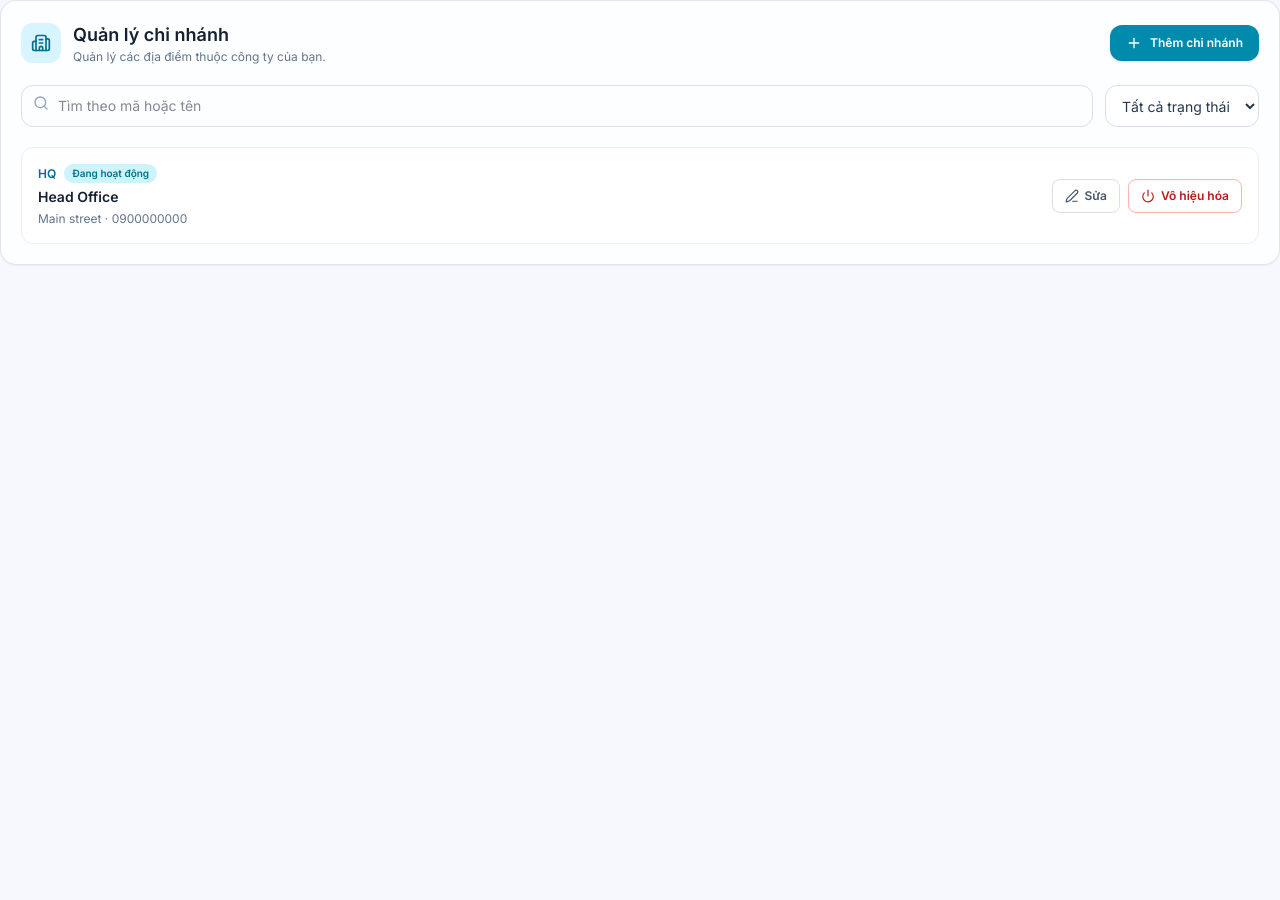
Scenario: BranchManagementTab › keeps a public IPv6 address and explains a denied location permission
This screenshot has width=1280, height=900.
Expected: the heading "Head Office" is shown, x1=38 y1=188 x2=118 y2=205
Click the button "Thêm chi nhánh". click: (1184, 43)
box: x1=1110 y1=25 x2=1259 y2=61
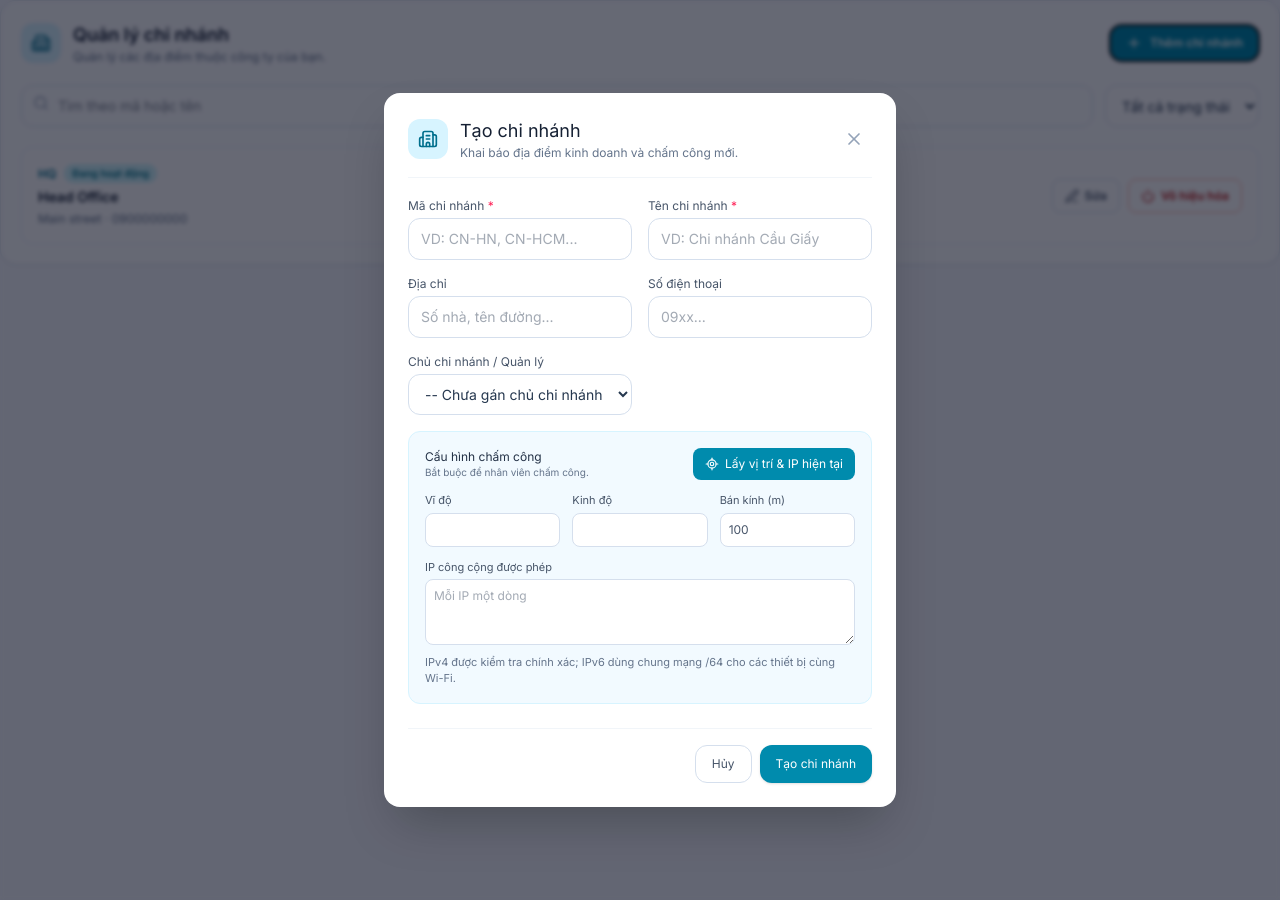
Click the button "Lấy vị trí & IP hiện tại". click: (774, 464)
box: x1=693 y1=448 x2=855 y2=480
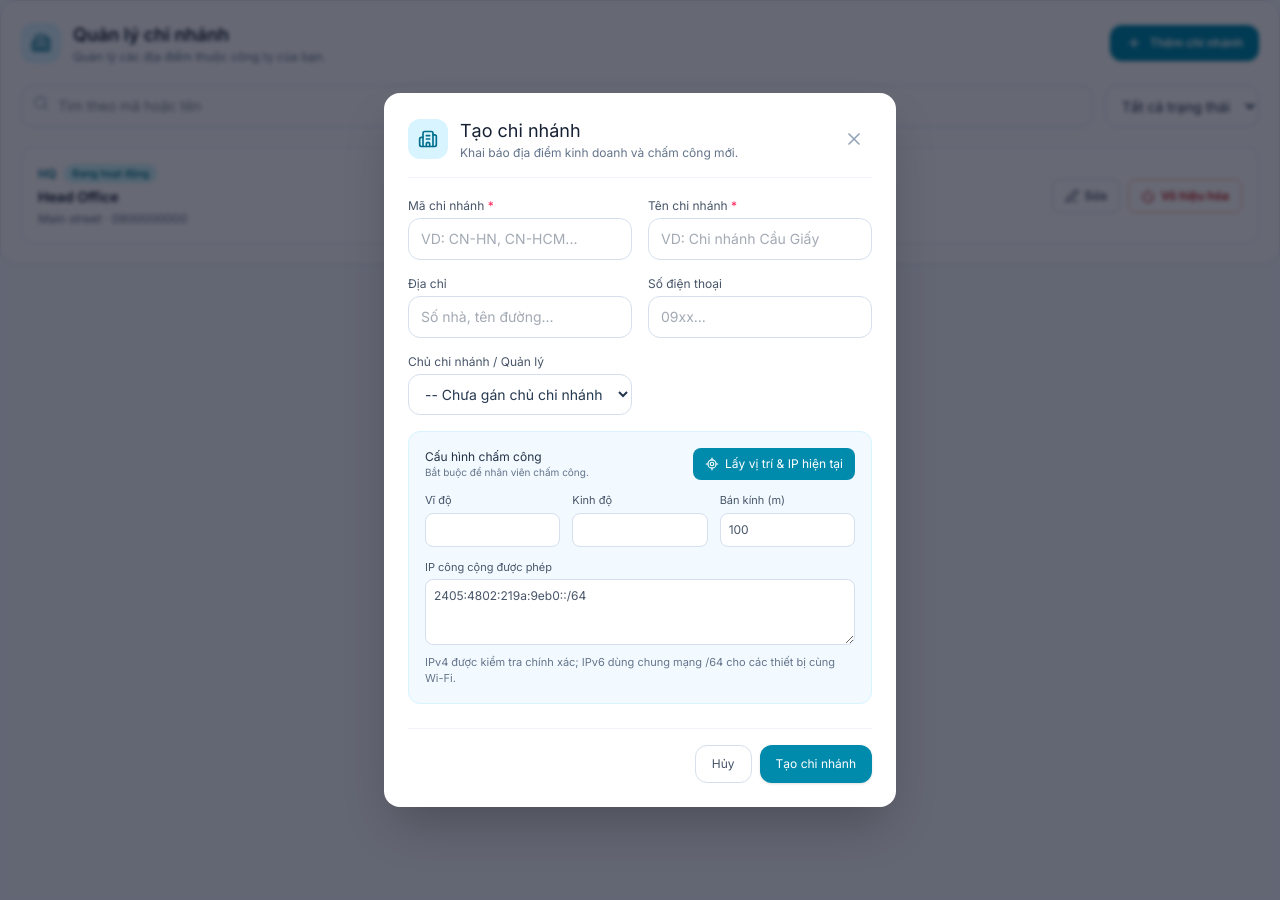
Expected: the text box labelled "IP công cộng được phép" holds "2405:4802:219a:9eb0::/64", x1=425 y1=579 x2=855 y2=645
